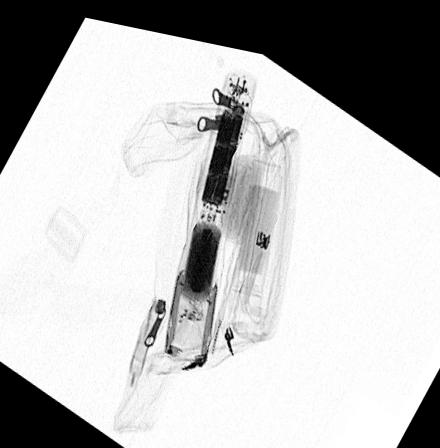Baton: (161, 58, 257, 354)
